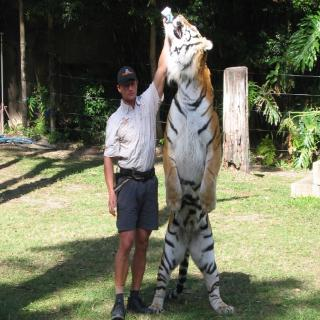Tiger: (148, 6, 236, 317)
